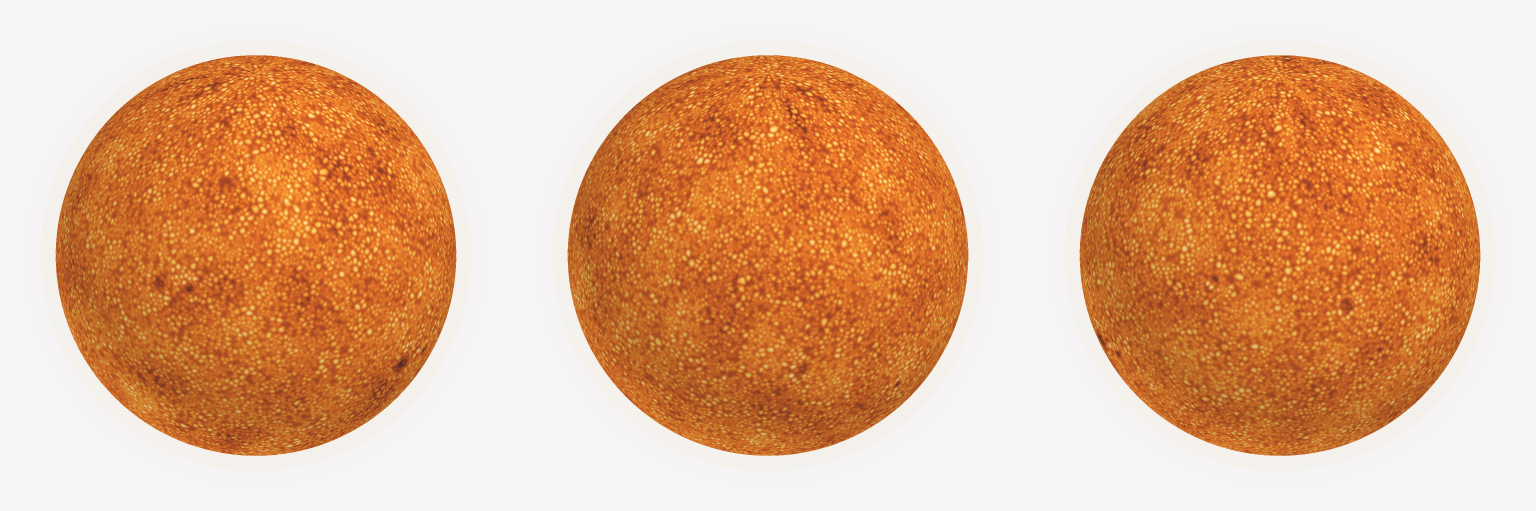
The model's file is sun.glb.
The picture shows the model from 3 angles, left to right: view 1: azimuth 30°, elevation 25°; view 2: azimuth 150°, elevation 25°; view 3: azimuth 270°, elevation 25°; orthographic projection.
Visible parts, largest first — view 1: Sun; view 2: Sun; view 3: Sun.
Boxes of the visible parts, x1,y1,x2,y2 form: Sun: (55, 55, 456, 455); Sun: (567, 55, 968, 455); Sun: (1079, 55, 1480, 455).
Size of what is drawn, in the model's own units: 2.41 by 2.41 by 2.41.
Materials: 5 (1 with a texture image).
